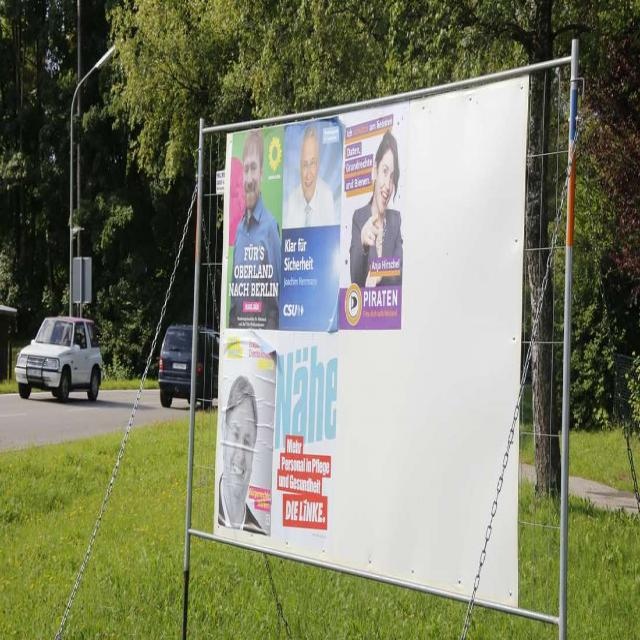Werbetafel frei: (189, 56, 576, 617)
